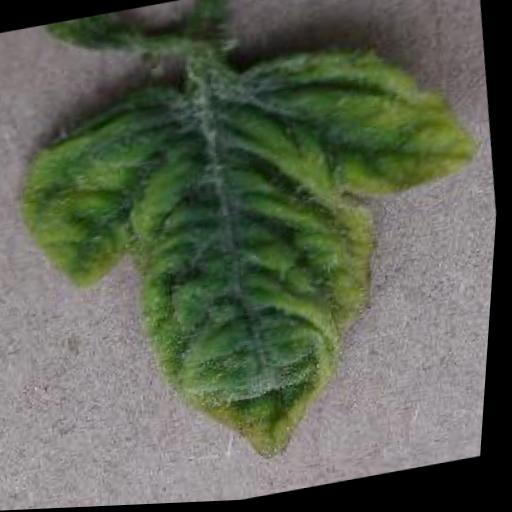Yellow Leaf Curl Virus: (0, 23, 510, 502)
